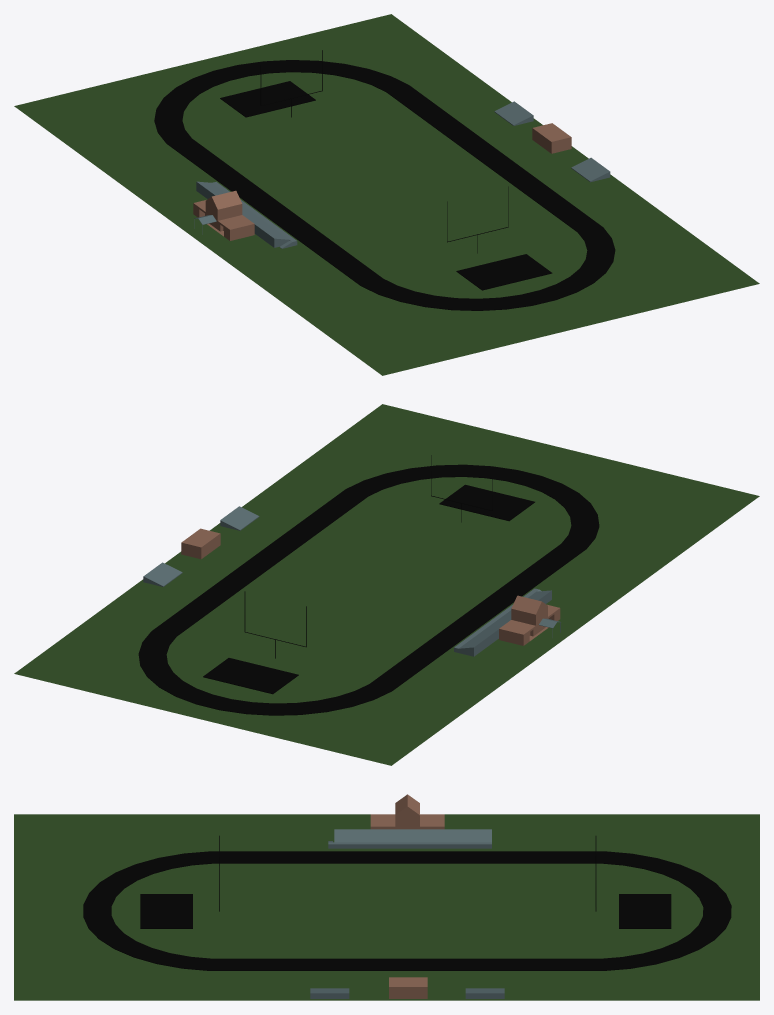
The model's file is Track Level.fbx.
3 views of the same model, one above another, from view 1: azimuth 30°, elevation 25°; view 2: azimuth 150°, elevation 25°; view 3: azimuth 270°, elevation 25° (orthographic).
Visible parts, largest first — view 1: Track Level; view 2: Track Level; view 3: Track Level.
Part boxes in pixels (<box>): Track Level: <box>14,14,759,375</box>; Track Level: <box>14,404,759,765</box>; Track Level: <box>14,794,759,1000</box>.
Size of the model in its own units: 11336 by 1774 by 19171.
Materials: 4 (4 with a texture image).
